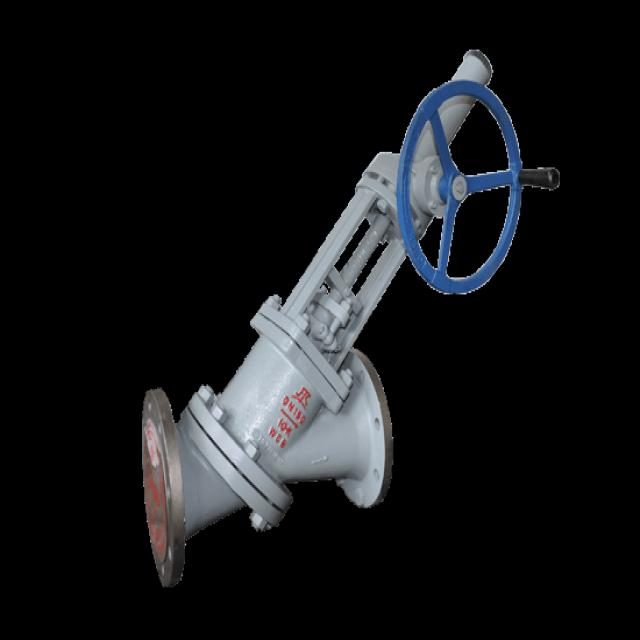Wheel Handle Valve Threaded: (394, 72, 527, 297)
